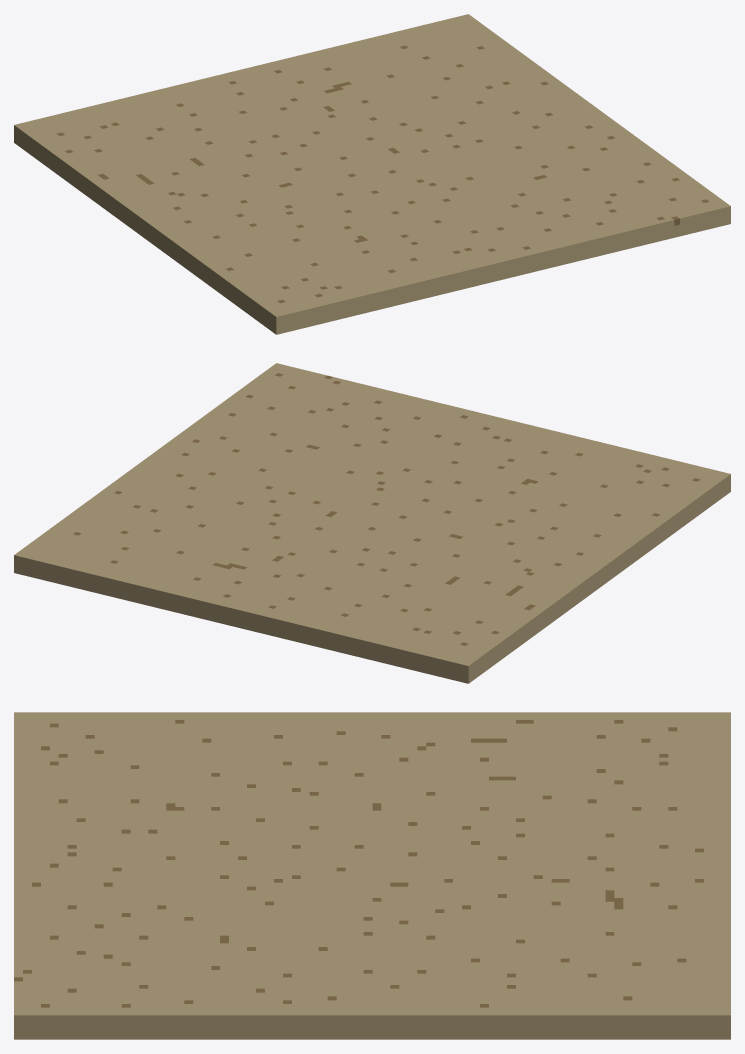
File: ground.obj
3 renders of one model, top to bottom at view 1: azimuth 30°, elevation 25°; view 2: azimuth 150°, elevation 25°; view 3: azimuth 270°, elevation 25°, orthographic. The views are drawn at different scales.
Size of the model in its own units: 8 by 0.3 by 8.
Materials: 1 (1 with a texture image).
